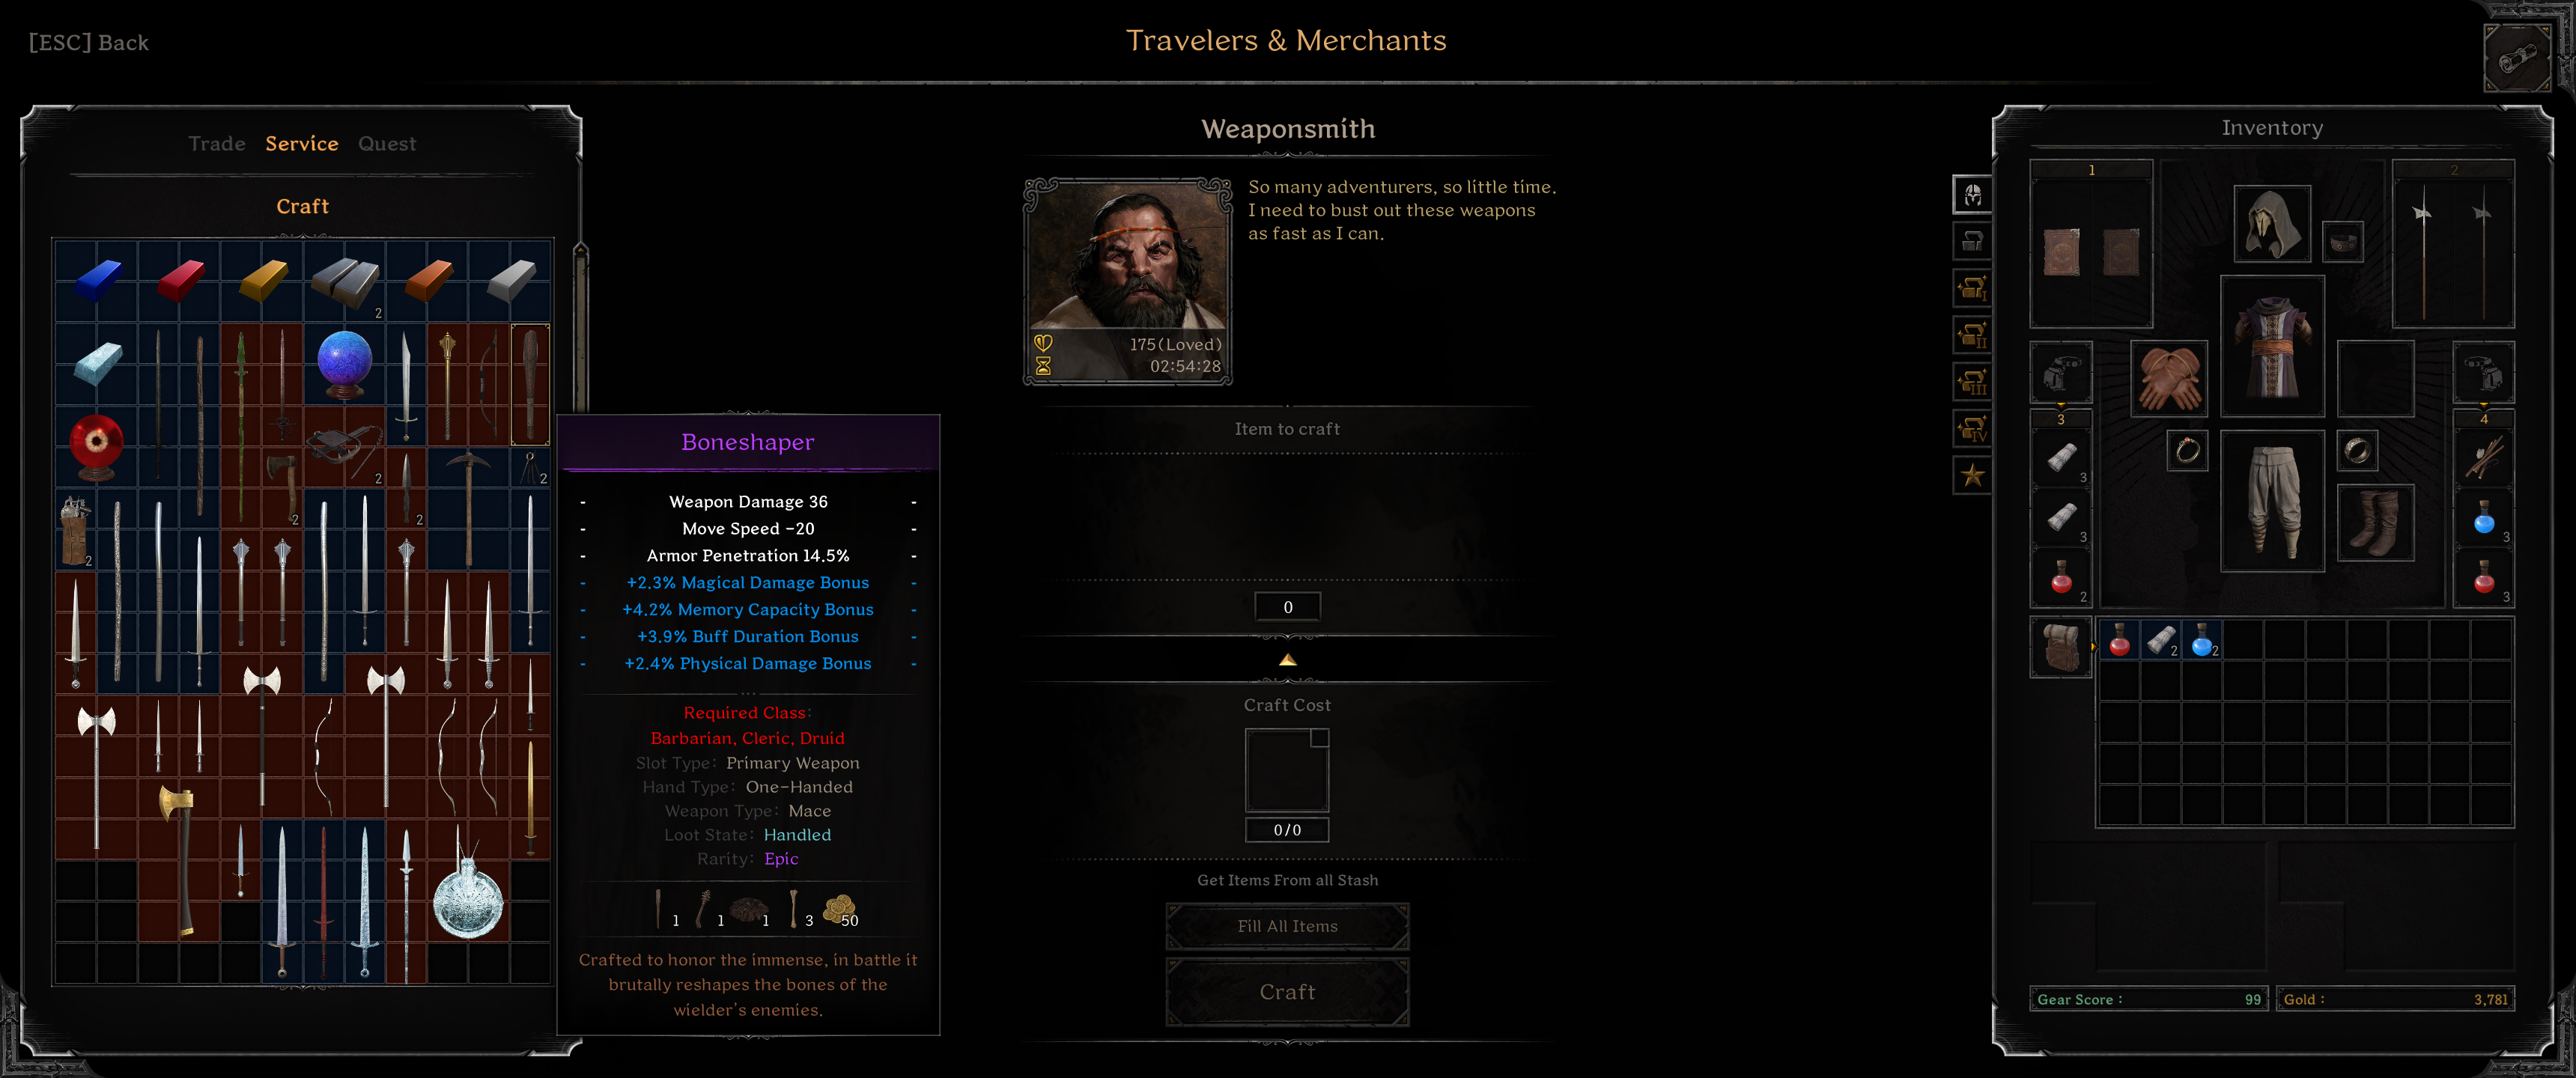Tooltip: (555, 412, 941, 1037)
